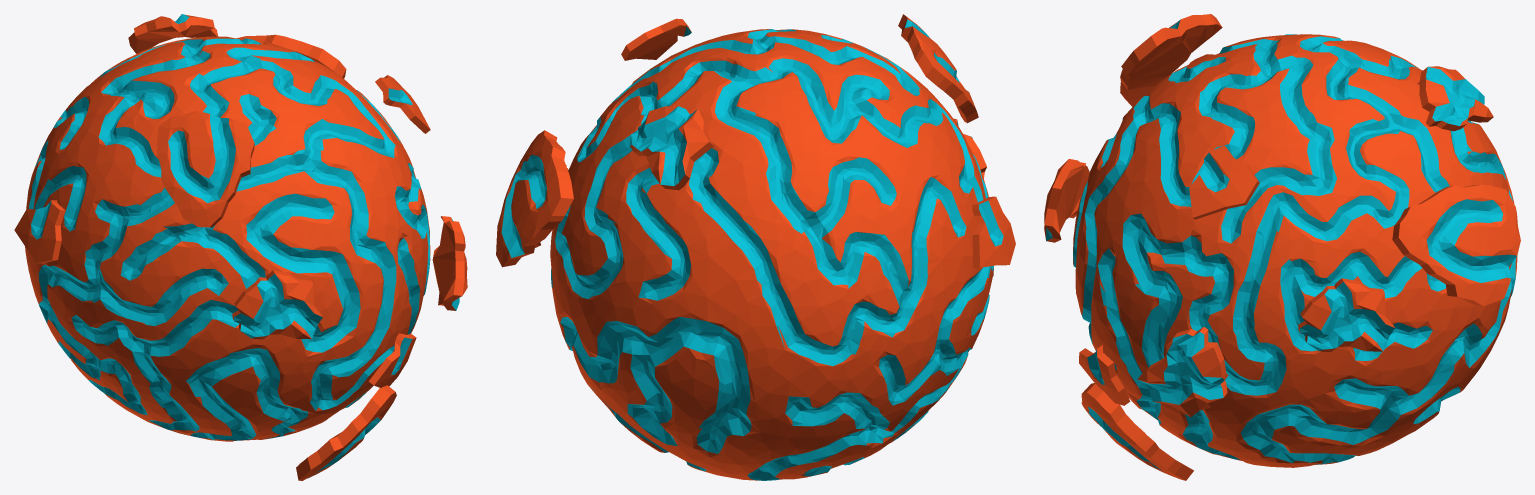
File: Planet_50.glb
The picture shows the model from 3 angles, left to right: view 1: azimuth 30°, elevation 25°; view 2: azimuth 150°, elevation 25°; view 3: azimuth 270°, elevation 25°; orthographic projection. The views are drawn at different scales.
Visible parts, largest first — view 1: Planet_50; view 2: Planet_50; view 3: Planet_50.
Boxes of the visible parts, bbox=[...] form: Planet_50: bbox=[14, 14, 467, 480]; Planet_50: bbox=[496, 14, 1015, 480]; Planet_50: bbox=[1044, 14, 1520, 480].
Size of the model in its own units: 21.96 by 20.29 by 21.66.
Materials: 1 (1 with a texture image).
